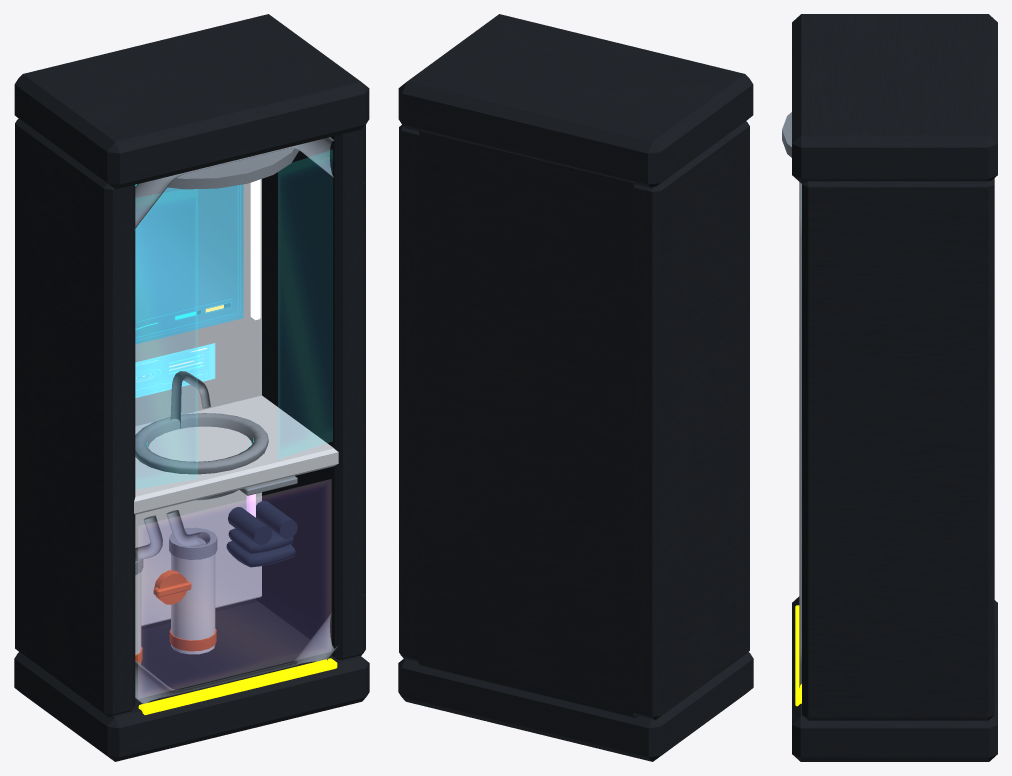
Rendered from vanity_r1_04.glb.
3 views of the same model, side by side, from view 1: azimuth 30°, elevation 25°; view 2: azimuth 150°, elevation 25°; view 3: azimuth 270°, elevation 25° (orthographic).
Parts seen in each view (by area): view 1: Vanity04_CylindricalGunmetalColumn, Vanity04_LowerUVTranslucentDoor, Vanity04_ConcaveWhiteWashChamber, Vanity04_PanoramicSmartMirror, Vanity04_HemisphericalSteelBasinAndTracks, Vanity04_PartedSonicSplashShields, Vanity04_OrbitalNavyTowels, Vanity04_OLEDControlBadge, Vanity04_AmberToeKick, Vanity04_SignalOrangeValves, Vanity04_MirrorIceWhiteBars; view 2: Vanity04_CylindricalGunmetalColumn; view 3: Vanity04_CylindricalGunmetalColumn, Vanity04_HemisphericalSteelBasinAndTracks, Vanity04_AmberToeKick.
Part boxes in pixels (<box>): Vanity04_CylindricalGunmetalColumn: <box>14,14,369,761</box>; Vanity04_LowerUVTranslucentDoor: <box>138,480,330,698</box>; Vanity04_ConcaveWhiteWashChamber: <box>134,179,338,664</box>; Vanity04_PanoramicSmartMirror: <box>135,184,243,344</box>; Vanity04_HemisphericalSteelBasinAndTracks: <box>134,137,364,703</box>; Vanity04_PartedSonicSplashShields: <box>136,150,332,488</box>; Vanity04_OrbitalNavyTowels: <box>226,500,297,567</box>; Vanity04_OLEDControlBadge: <box>135,343,215,397</box>; Vanity04_AmberToeKick: <box>138,658,337,714</box>; Vanity04_SignalOrangeValves: <box>135,570,216,663</box>; Vanity04_MirrorIceWhiteBars: <box>250,179,260,320</box>; Vanity04_CylindricalGunmetalColumn: <box>398,14,753,761</box>; Vanity04_CylindricalGunmetalColumn: <box>792,14,997,761</box>; Vanity04_HemisphericalSteelBasinAndTracks: <box>782,112,801,687</box>; Vanity04_AmberToeKick: <box>795,605,801,706</box>.
Bounding box in the file's own units: 0.92 × 2.08 × 0.65.
Materials: 13 (13 with a texture image).
